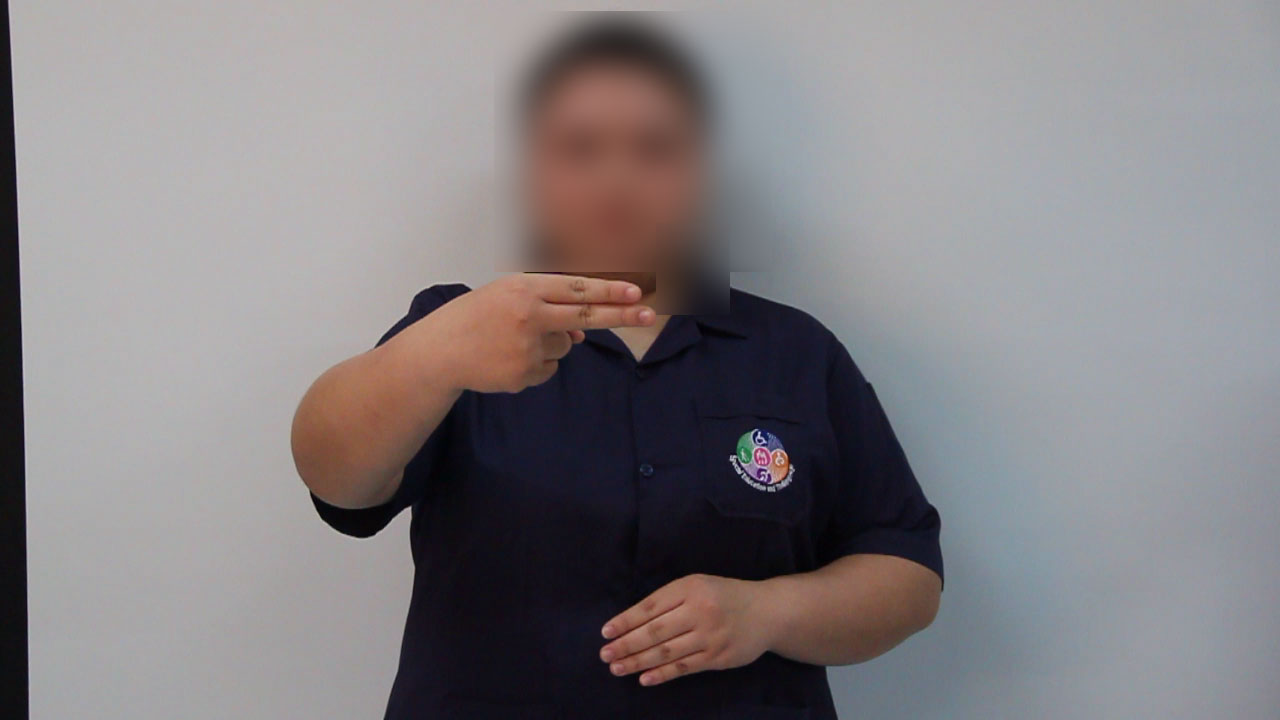hor: (428, 265, 670, 417)
